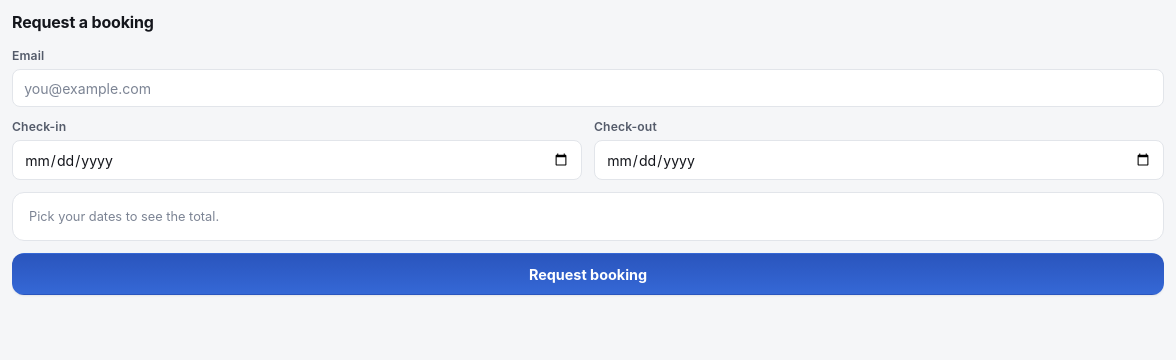
it: BookingPanel › creates a booking and shows a confirmation on a valid submit
Type "a@b.co" into the field labelled "Email" at coordinates (588, 88), box [12,69,1164,107]
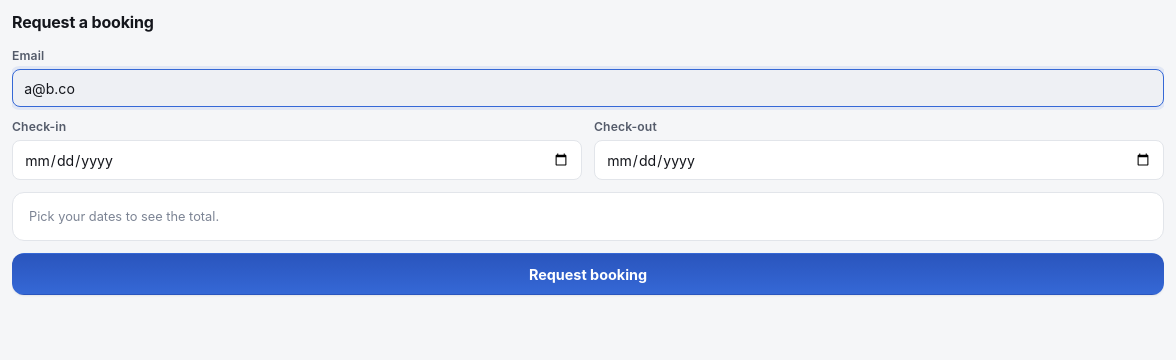
Type "2025-05-01" into the date field labelled "Check-in" at coordinates (297, 160), box [12,140,582,180]
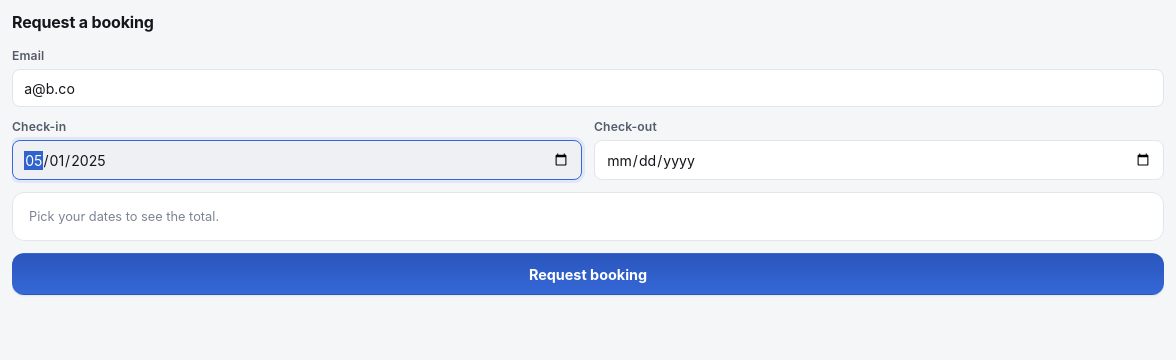
Type "2025-05-03" into the date field labelled "Check-out" at coordinates (879, 160), box [594,140,1164,180]
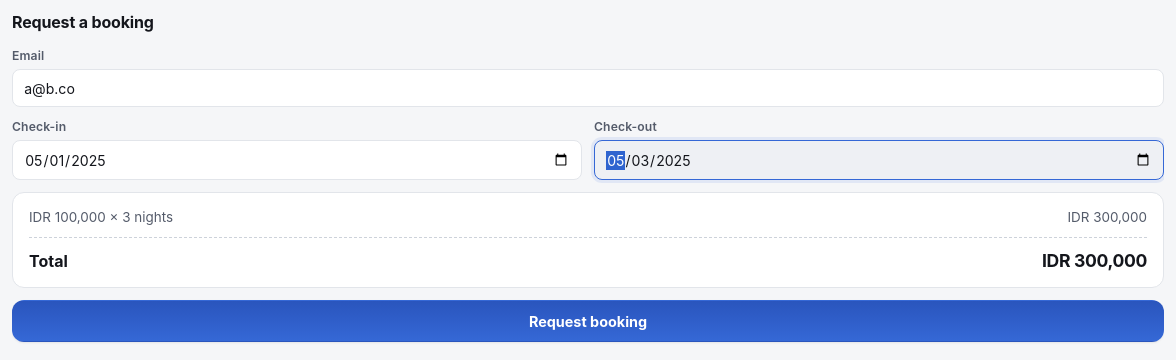
Click the button "Request booking" at coordinates (588, 321), box [12,300,1164,342]
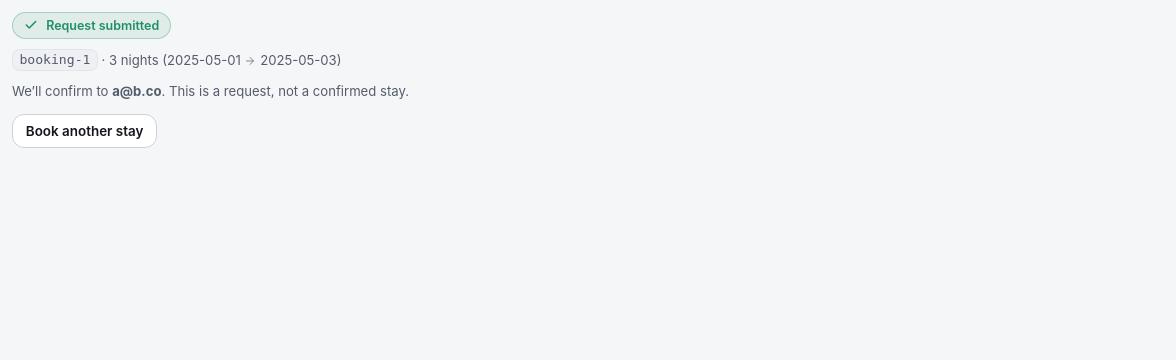
Expected: the text "Request submitted" is shown, [12,12,171,39]
Expected: the text "booking-1" is shown, [12,49,98,71]
